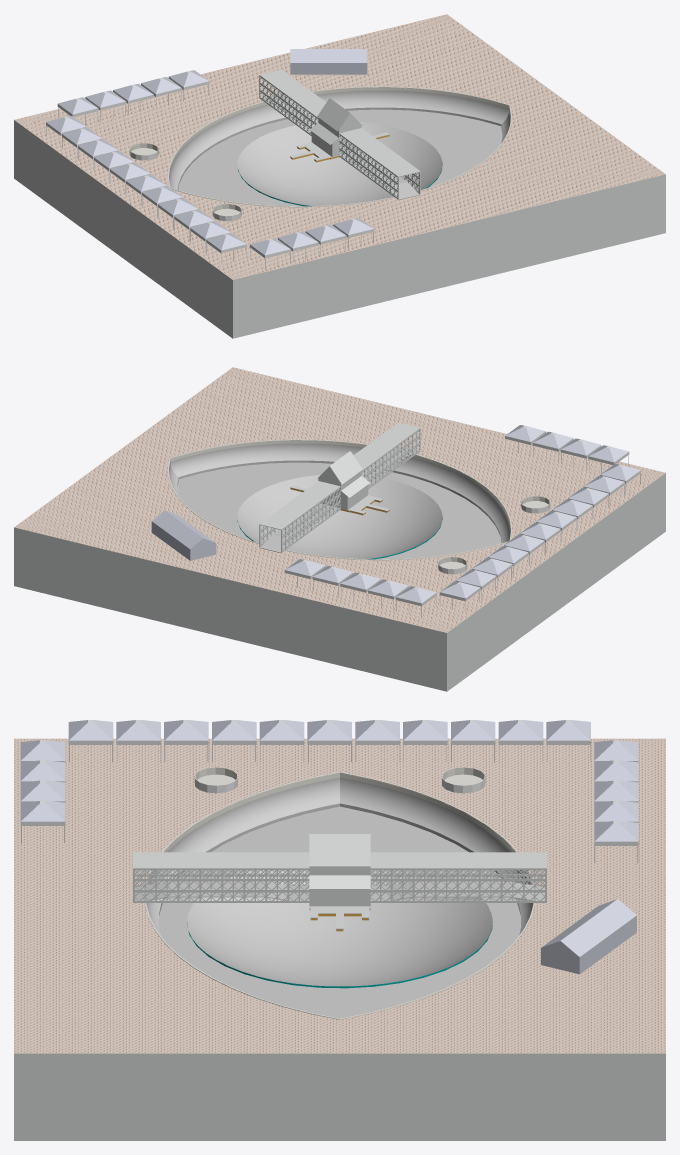
File: transdec.dae
The picture shows the model from 3 angles, top to bottom: view 1: azimuth 30°, elevation 25°; view 2: azimuth 150°, elevation 25°; view 3: azimuth 270°, elevation 25°; orthographic projection. The views are drawn at different scales.
Visible parts, largest first — view 1: mesh_7_Mirror4, mesh_6_LPattern3_15__face, mesh_10_LPattern3_8__face, mesh_3_Cut-Extrude15_1__face, mesh_5_Mirror5_face, mesh_1_transdec-1, mesh_9_Mirror4_face, mesh_2_Cut-Extrude15_1_, mesh_8_Cut-Extrude9, mesh_12_Boss-Extrude17; view 2: mesh_7_Mirror4, mesh_6_LPattern3_15__face, mesh_10_LPattern3_8__face, mesh_3_Cut-Extrude15_1__face, mesh_5_Mirror5_face, mesh_1_transdec-1, mesh_9_Mirror4_face, mesh_2_Cut-Extrude15_1_, mesh_8_Cut-Extrude9, mesh_12_Boss-Extrude17; view 3: mesh_7_Mirror4, mesh_6_LPattern3_15__face, mesh_10_LPattern3_8__face, mesh_3_Cut-Extrude15_1__face, mesh_5_Mirror5_face, mesh_1_transdec-1, mesh_9_Mirror4_face, mesh_8_Cut-Extrude9, mesh_2_Cut-Extrude15_1_, mesh_12_Boss-Extrude17, mesh_4_Transdec_Above_Water-1.
Boxes of the visible parts, <box> form: mesh_7_Mirror4: <box>14,14,665,279</box>; mesh_6_LPattern3_15__face: <box>14,69,665,338</box>; mesh_10_LPattern3_8__face: <box>46,49,373,269</box>; mesh_3_Cut-Extrude15_1__face: <box>237,122,442,206</box>; mesh_5_Mirror5_face: <box>178,109,502,206</box>; mesh_1_transdec-1: <box>169,90,510,189</box>; mesh_9_Mirror4_face: <box>46,71,374,258</box>; mesh_2_Cut-Extrude15_1_: <box>168,86,511,207</box>; mesh_8_Cut-Extrude9: <box>262,93,419,199</box>; mesh_12_Boss-Extrude17: <box>130,143,241,215</box>; mesh_7_Mirror4: <box>14,367,665,632</box>; mesh_6_LPattern3_15__face: <box>14,422,665,691</box>; mesh_10_LPattern3_8__face: <box>151,425,640,617</box>; mesh_3_Cut-Extrude15_1__face: <box>237,475,442,559</box>; mesh_5_Mirror5_face: <box>177,462,501,559</box>; mesh_1_transdec-1: <box>169,443,510,542</box>; mesh_9_Mirror4_face: <box>284,425,640,606</box>; mesh_2_Cut-Extrude15_1_: <box>168,439,511,560</box>; mesh_8_Cut-Extrude9: <box>260,446,417,552</box>; mesh_12_Boss-Extrude17: <box>438,496,549,568</box>; mesh_7_Mirror4: <box>14,738,665,1053</box>; mesh_6_LPattern3_15__face: <box>14,834,665,1140</box>; mesh_10_LPattern3_8__face: <box>20,720,638,974</box>; mesh_3_Cut-Extrude15_1__face: <box>187,870,492,986</box>; mesh_5_Mirror5_face: <box>159,806,520,1018</box>; mesh_1_transdec-1: <box>146,777,533,934</box>; mesh_9_Mirror4_face: <box>20,720,638,845</box>; mesh_8_Cut-Extrude9: <box>135,881,544,900</box>; mesh_2_Cut-Extrude15_1_: <box>144,772,535,1019</box>; mesh_12_Boss-Extrude17: <box>195,767,484,785</box>; mesh_4_Transdec_Above_Water-1: <box>187,922,492,988</box>.
Bounding box in the file's own units: 117 × 102 × 25.89.
